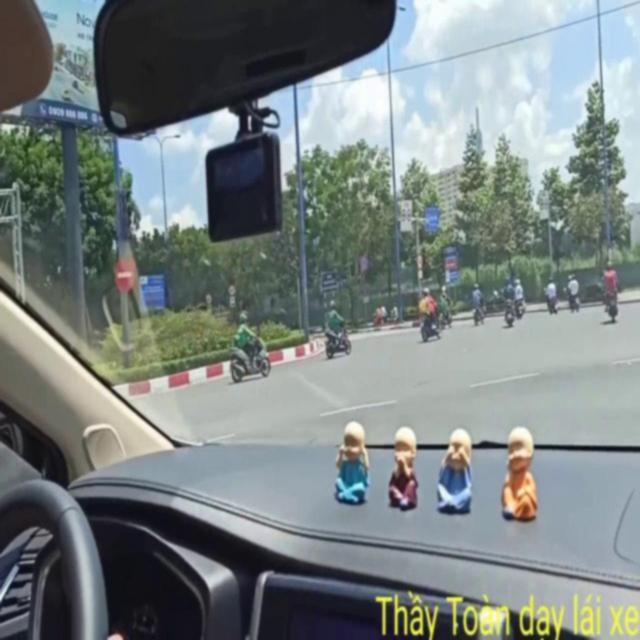Cấm các phương tiện hoạt động trong khung giờ cố định: (535, 184, 549, 218), (401, 195, 413, 231)
Cấm dừng - Cấm đỗ: (358, 251, 367, 271)
Cấm xe máy: (416, 250, 423, 268)
Cấm đi ngược chiều: (112, 253, 135, 294)
Giới hạn tốc độ: 60Km/h: (202, 292, 212, 303)
Giới hạn tốc độ: 80Km/h: (226, 280, 237, 298)
Khác: (138, 270, 169, 317), (442, 242, 459, 285), (317, 268, 339, 291)
Làn đường cho từng xe: (423, 204, 438, 229)
